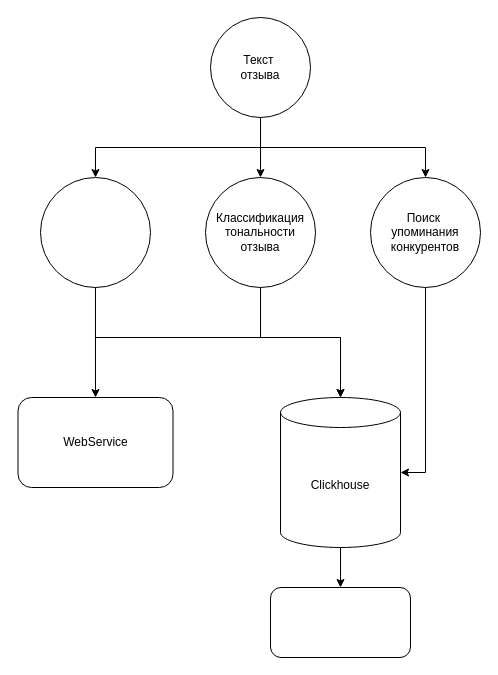
Image size: 498x675. Some labels were removed from this diagram. Each missing label, with the box of its shape:
Superset: (270, 586, 410, 658)
Классификация темы отзыва: (40, 176, 150, 288)
